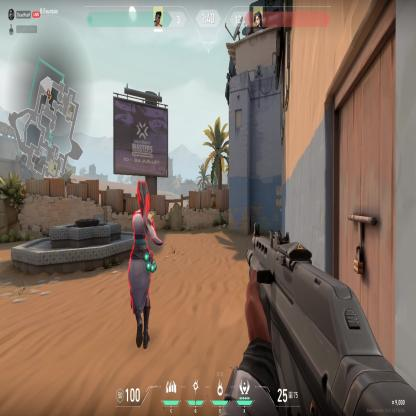enemy: (126, 178, 163, 353)
